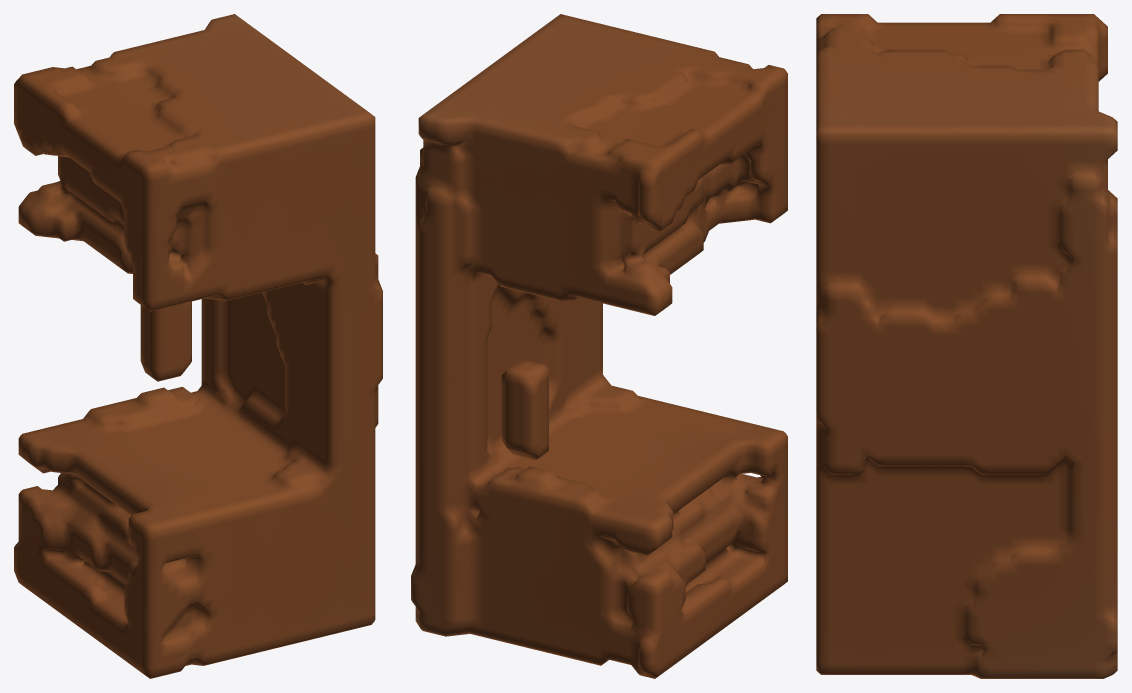
The model's file is Rectangular wooden table with two legs, light brow.glb.
3 views of the same model, side by side, from view 1: azimuth 30°, elevation 25°; view 2: azimuth 150°, elevation 25°; view 3: azimuth 270°, elevation 25° (orthographic). The views are drawn at different scales.
Visible parts, largest first — view 1: Rectangular wooden table with two legs, light brow; view 2: Rectangular wooden table with two legs, light brow; view 3: Rectangular wooden table with two legs, light brow.
Part boxes in pixels (x1=…): Rectangular wooden table with two legs, light brow: x1=14, y1=14, x2=382, y2=678; Rectangular wooden table with two legs, light brow: x1=411, y1=14, x2=787, y2=678; Rectangular wooden table with two legs, light brow: x1=816, y1=14, x2=1117, y2=678.
Size of the model in its own units: 31 by 64 by 32.
